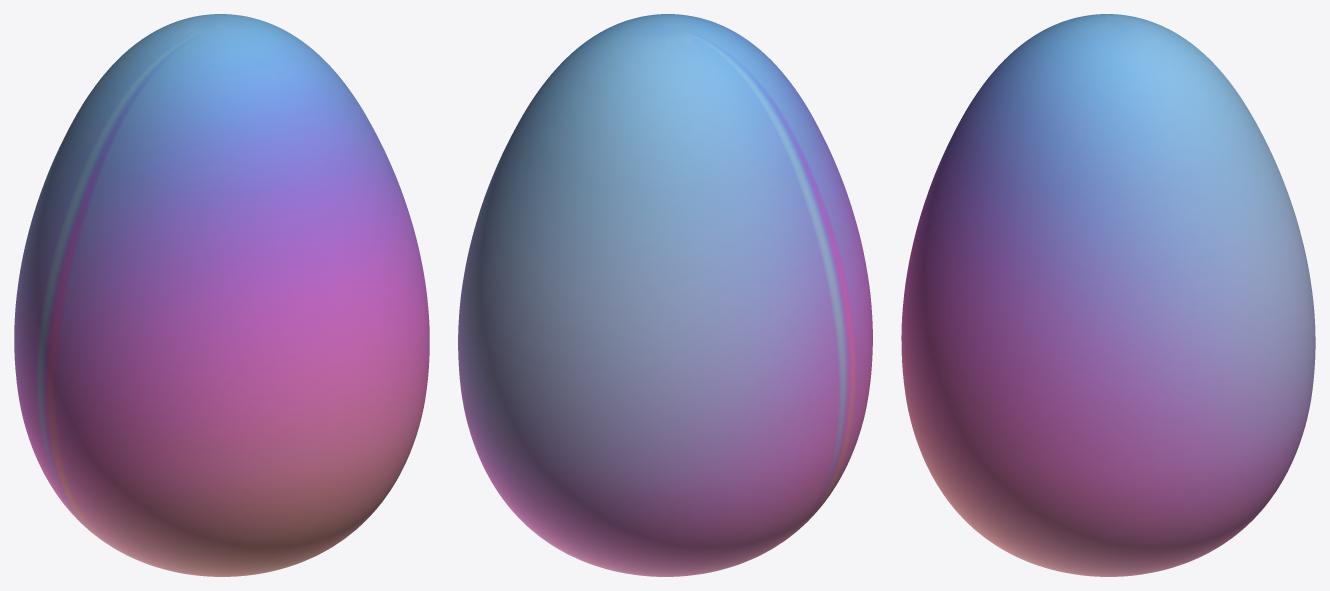
3 views of the same model, side by side, from view 1: azimuth 30°, elevation 25°; view 2: azimuth 150°, elevation 25°; view 3: azimuth 270°, elevation 25° (orthographic).
Parts seen in each view (by area): view 1: 球体; view 2: 球体; view 3: 球体.
Boxes of the visible parts, x1=… form: 球体: x1=14, y1=14, x2=429, y2=576; 球体: x1=458, y1=14, x2=872, y2=576; 球体: x1=901, y1=14, x2=1315, y2=576.
Bounding box in the file's own units: 2.01 × 2.83 × 2.01.
Materials: 1 (1 with a texture image).
